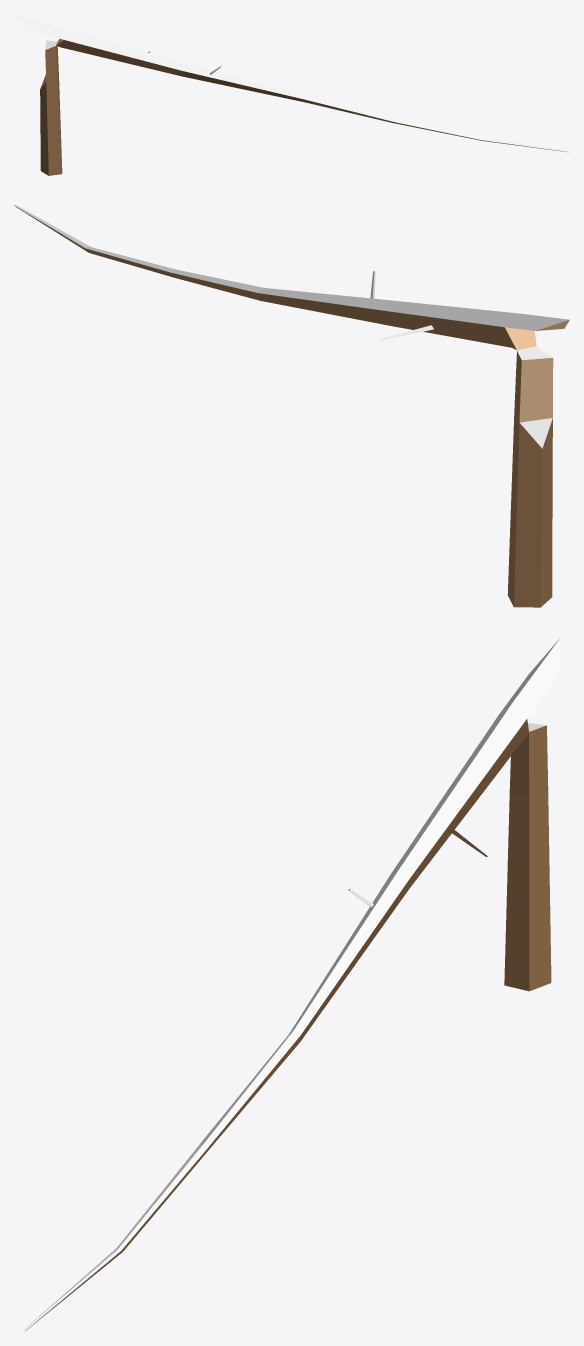
File: Pine_Tree_NoLeaves_crk_l_Snow_BT_07.fbx
3 views of the same model, one above another, from view 1: azimuth 30°, elevation 25°; view 2: azimuth 150°, elevation 25°; view 3: azimuth 270°, elevation 25° (orthographic). The views are drawn at different scales.
Parts seen in each view (by area): view 1: Pine_Tree_NoLeaves_crk_l_Snow_BT_07; view 2: Pine_Tree_NoLeaves_crk_l_Snow_BT_07; view 3: Pine_Tree_NoLeaves_crk_l_Snow_BT_07.
Part boxes in pixels (left/top/right/bottom): Pine_Tree_NoLeaves_crk_l_Snow_BT_07: left=14, top=14, right=569, bottom=175; Pine_Tree_NoLeaves_crk_l_Snow_BT_07: left=14, top=204, right=569, bottom=607; Pine_Tree_NoLeaves_crk_l_Snow_BT_07: left=23, top=636, right=561, bottom=1331.
Size of the model in its own units: 1357 by 486 by 752.
